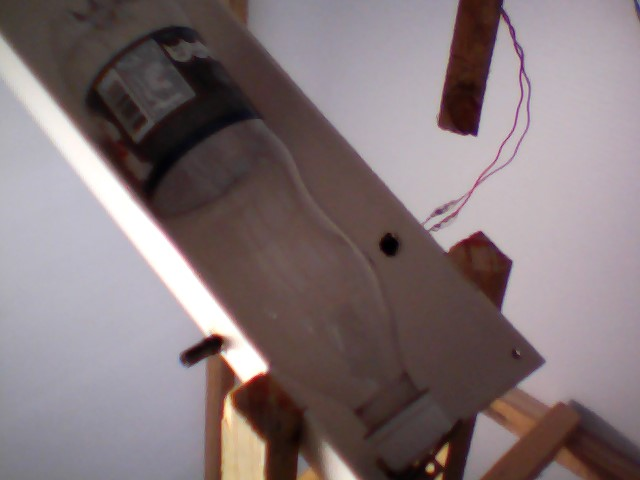plastico: (32, 1, 455, 473)
